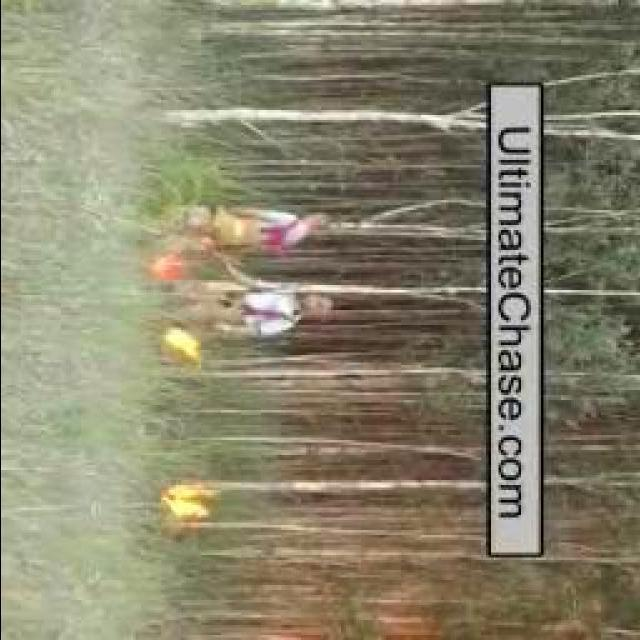Fire: (153, 480, 216, 526), (160, 315, 198, 368), (144, 252, 181, 282)
